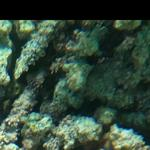dead: (5, 24, 146, 147)
